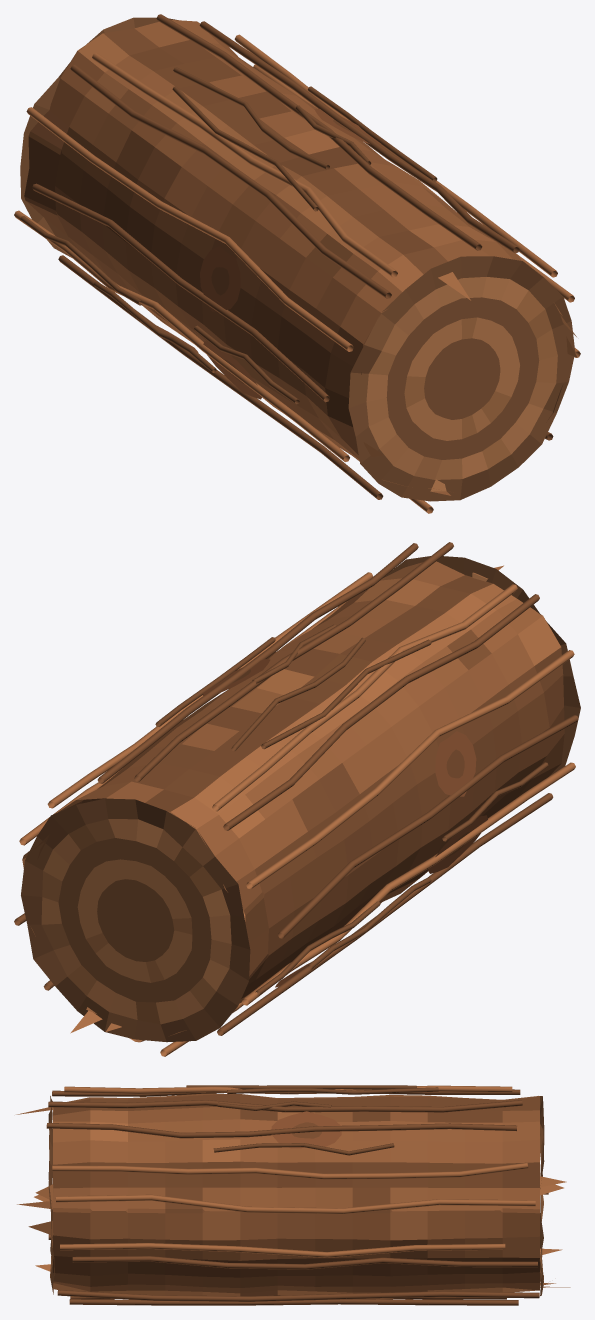
File: MapleLog.glb
3 renders of one model, top to bottom at view 1: azimuth 30°, elevation 25°; view 2: azimuth 150°, elevation 25°; view 3: azimuth 270°, elevation 25°, orthographic. The views are drawn at different scales.
Visible parts, largest first — view 1: Maple_Log_Rough_ExportTemp; view 2: Maple_Log_Rough_ExportTemp; view 3: Maple_Log_Rough_ExportTemp.
Part boxes in pixels (box(x1,y1,x2,y2)): Maple_Log_Rough_ExportTemp: box(14, 14, 580, 513); Maple_Log_Rough_ExportTemp: box(14, 542, 580, 1056); Maple_Log_Rough_ExportTemp: box(16, 1085, 570, 1305).
Size of the model in its own units: 0.2484 by 0.2486 by 0.6401.
